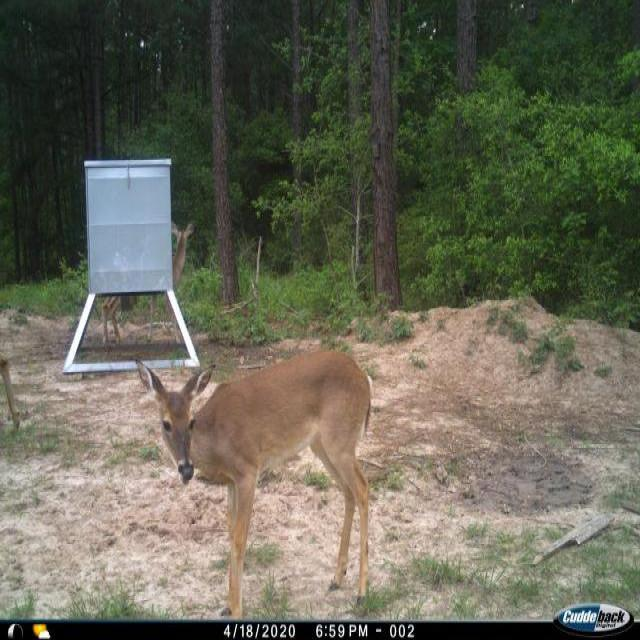deer: (130, 341, 380, 624), (91, 214, 200, 350), (2, 338, 26, 441)
